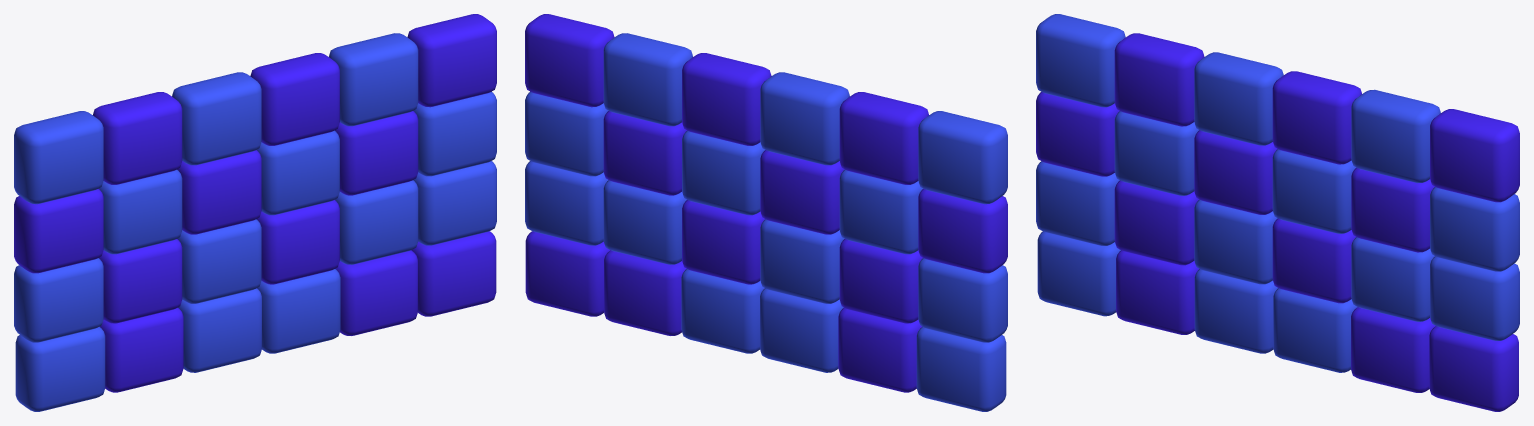
File: KüpDuvar.fbx
3 views of the same model, side by side, from view 1: azimuth 30°, elevation 25°; view 2: azimuth 150°, elevation 25°; view 3: azimuth 330°, elevation 25° (orthographic).
Parts seen in each view (by area): view 1: duvar19, duvar21, duva20, duvar23, duvar24, duvar22, duvar, duvar13, duvar7, duvar6, duvar5, duvar9 (+12 smaller); view 2: duvar19, duvar21, duva20, duvar23, duvar24, duvar22, duvar, duvar13, duvar7, duvar6, duvar5, duvar9 (+12 smaller); view 3: duvar24, duva20, duvar22, duvar19, duvar23, duvar21, duvar6, duvar18, duvar12, duvar5, duva8, duva14 (+12 smaller).
Part boxes in pixels (x1=…): duvar19: x1=14, y1=111, x2=103, y2=204; duvar21: x1=172, y1=72, x2=261, y2=165; duva20: x1=93, y1=92, x2=182, y2=184; duvar23: x1=329, y1=33, x2=418, y2=126; duvar24: x1=407, y1=14, x2=496, y2=107; duvar22: x1=250, y1=53, x2=339, y2=145; duvar: x1=15, y1=326, x2=105, y2=411; duvar13: x1=14, y1=189, x2=103, y2=273; duvar7: x1=14, y1=258, x2=103, y2=342; duvar6: x1=411, y1=231, x2=496, y2=316; duvar5: x1=335, y1=250, x2=417, y2=335; duvar9: x1=177, y1=219, x2=261, y2=303; duvar19: x1=918, y1=111, x2=1007, y2=204; duvar21: x1=760, y1=72, x2=849, y2=165; duva20: x1=839, y1=92, x2=928, y2=184; duvar23: x1=603, y1=33, x2=692, y2=126; duvar24: x1=525, y1=14, x2=614, y2=107; duvar22: x1=682, y1=53, x2=771, y2=145; duvar: x1=916, y1=326, x2=1006, y2=411; duvar13: x1=918, y1=189, x2=1007, y2=273; duvar7: x1=918, y1=258, x2=1007, y2=342; duvar6: x1=525, y1=231, x2=610, y2=316; duvar5: x1=604, y1=250, x2=686, y2=335; duvar9: x1=760, y1=219, x2=844, y2=303; duvar24: x1=1430, y1=109, x2=1519, y2=202; duva20: x1=1114, y1=33, x2=1204, y2=126; duvar22: x1=1272, y1=71, x2=1361, y2=164; duvar19: x1=1036, y1=14, x2=1125, y2=107; duvar23: x1=1351, y1=89, x2=1440, y2=183; duvar21: x1=1194, y1=52, x2=1283, y2=145; duvar6: x1=1429, y1=326, x2=1518, y2=411; duvar18: x1=1430, y1=187, x2=1519, y2=271; duvar12: x1=1430, y1=256, x2=1519, y2=340; duvar5: x1=1351, y1=307, x2=1435, y2=392; duva8: x1=1114, y1=180, x2=1199, y2=265; duva14: x1=1114, y1=111, x2=1199, y2=195.
Size of the model in its own units: 1217 by 693 by 102.
